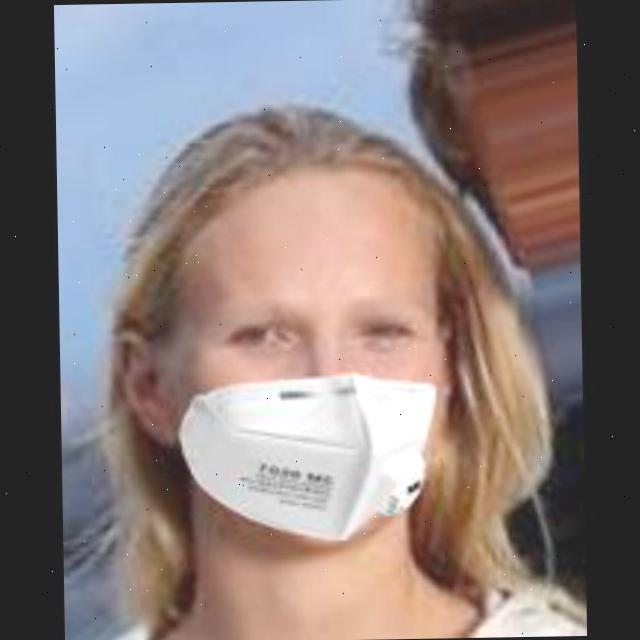suspicion: (119, 144, 442, 551)
